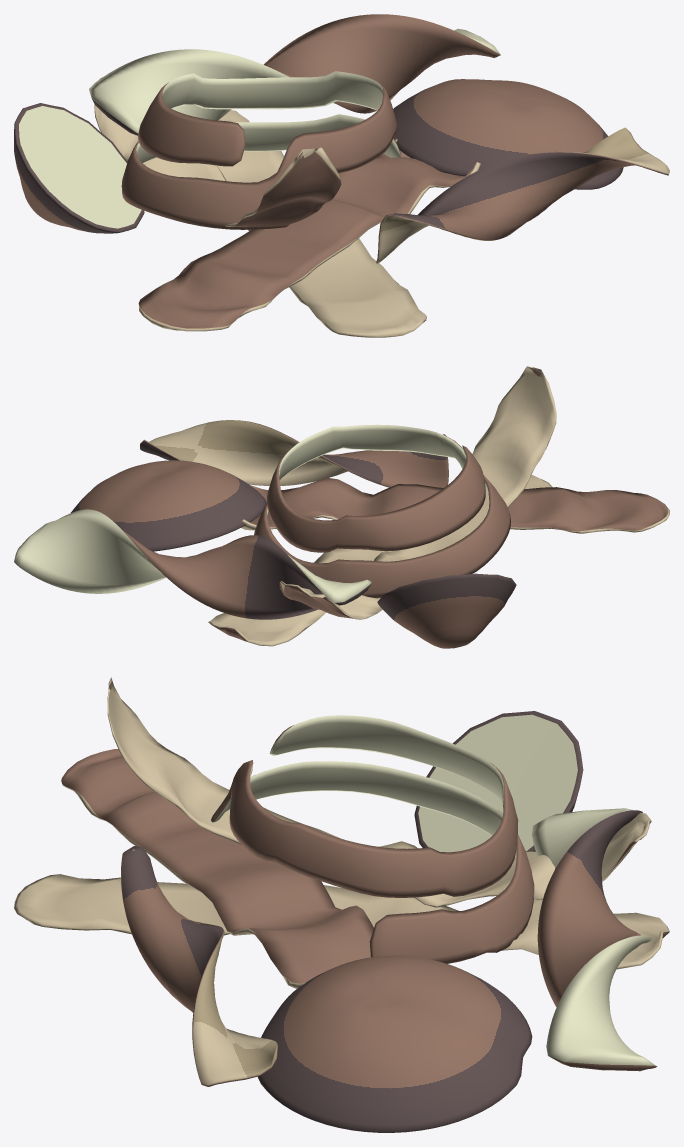
File: cascaraPapas_padre.fbx
3 views of the same model, one above another, from view 1: azimuth 30°, elevation 25°; view 2: azimuth 150°, elevation 25°; view 3: azimuth 270°, elevation 25° (orthographic). The views are drawn at different scales.
Parts seen in each view (by area): view 1: cascaraPapas_padre; view 2: cascaraPapas_padre; view 3: cascaraPapas_padre.
Part boxes in pixels (x1=…): cascaraPapas_padre: x1=14, y1=14, x2=669, y2=337; cascaraPapas_padre: x1=14, y1=366, x2=669, y2=648; cascaraPapas_padre: x1=14, y1=677, x2=669, y2=1132.
Bounding box in the file's own units: 51.24 × 15.76 × 43.46.
